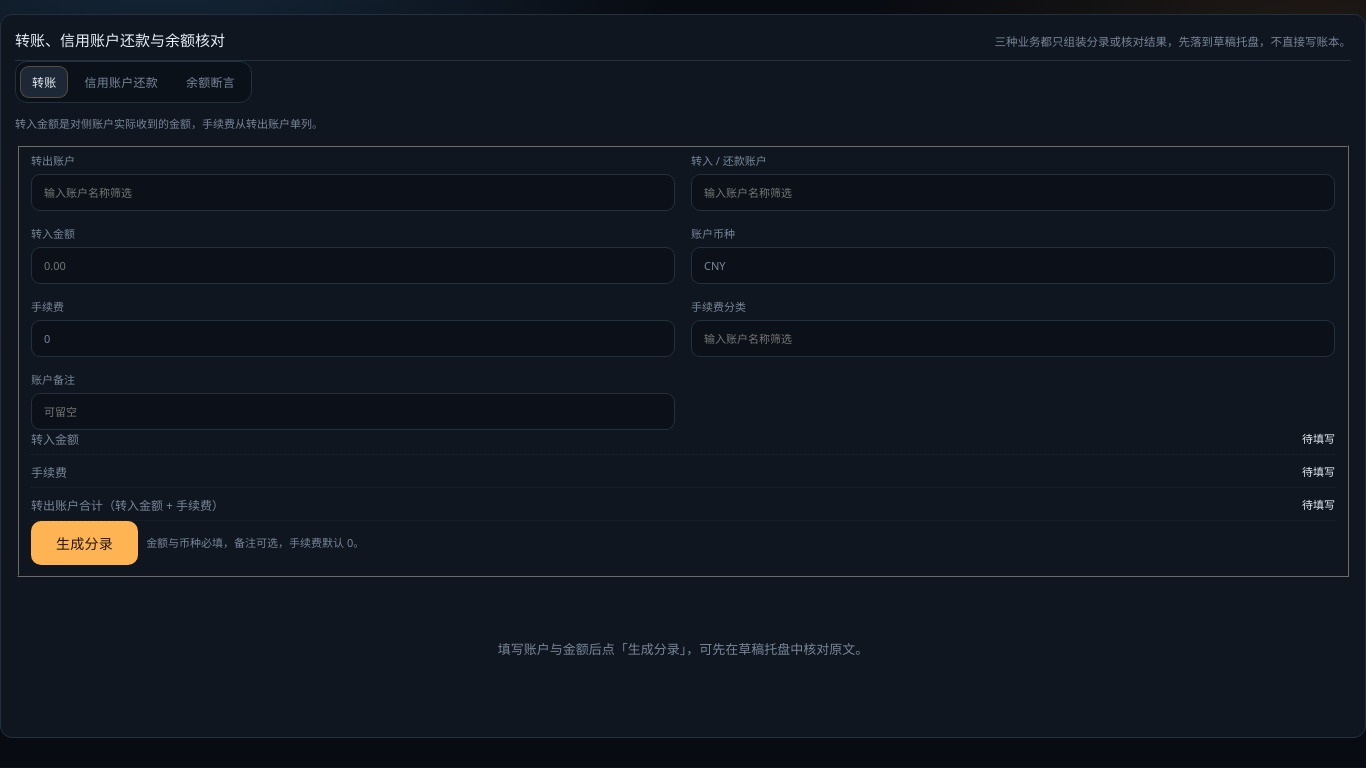
it: 余额断言列出账面、预期与负差额，切换业务后作废
Click the button "余额断言" at (210, 82), box x1=174 y1=66 x2=247 y2=98
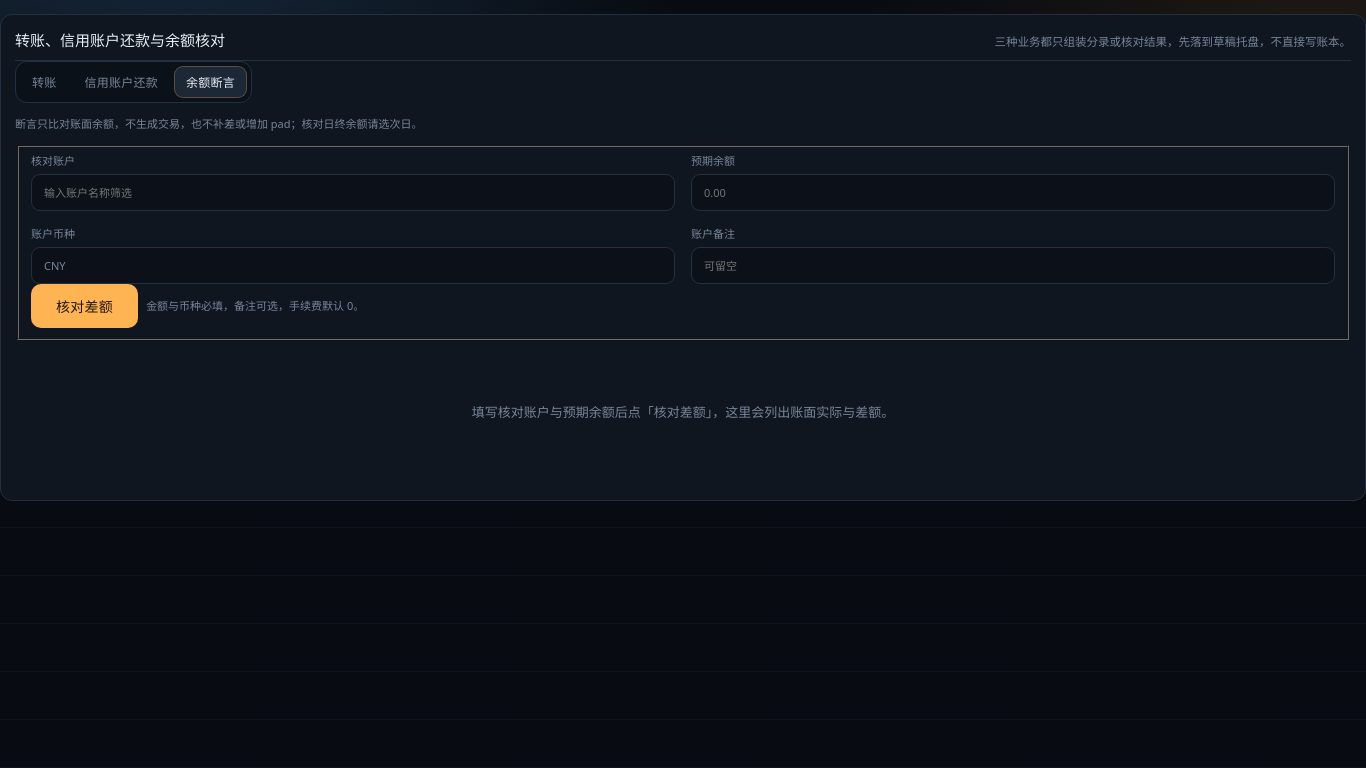
Now the text labelled "转入金额" is gone
Now the text labelled "手续费分类" is gone
Now the text labelled "转出账户" is gone
Type "Assets:Bank" into the dropdown labelled "核对账户" at (353, 193), box x1=31 y1=174 x2=675 y2=211
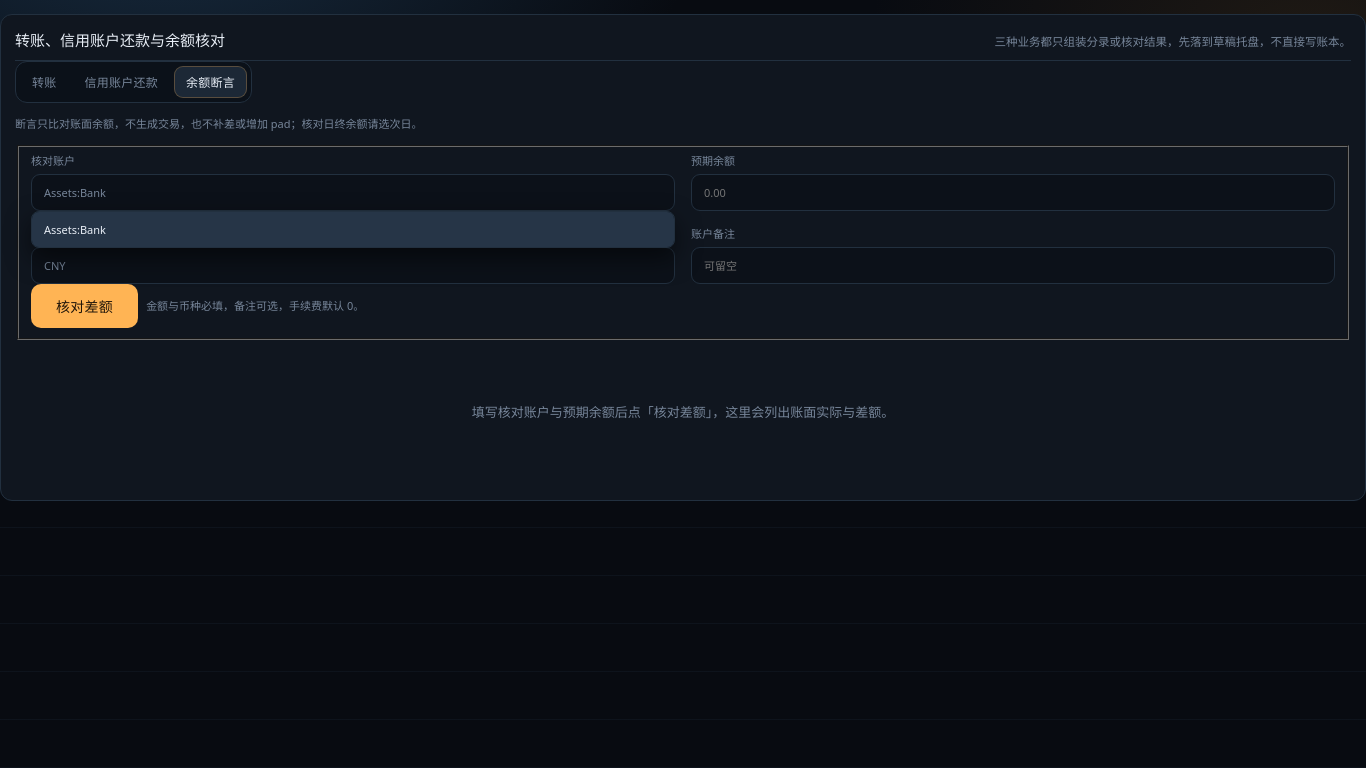
Type "100" into the field labelled "预期余额" at (1013, 193), box x1=691 y1=174 x2=1335 y2=211
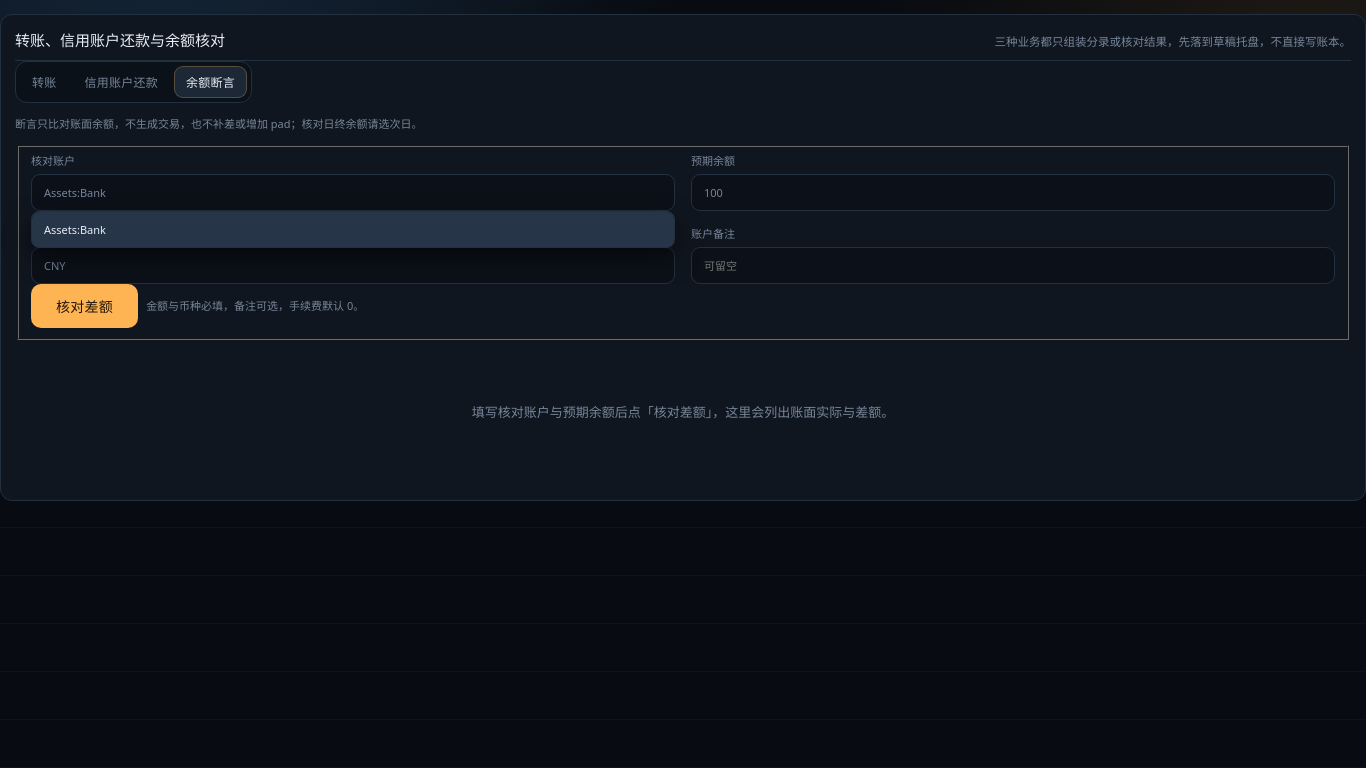
Click the button "核对差额" at (85, 306), box x1=31 y1=284 x2=138 y2=328
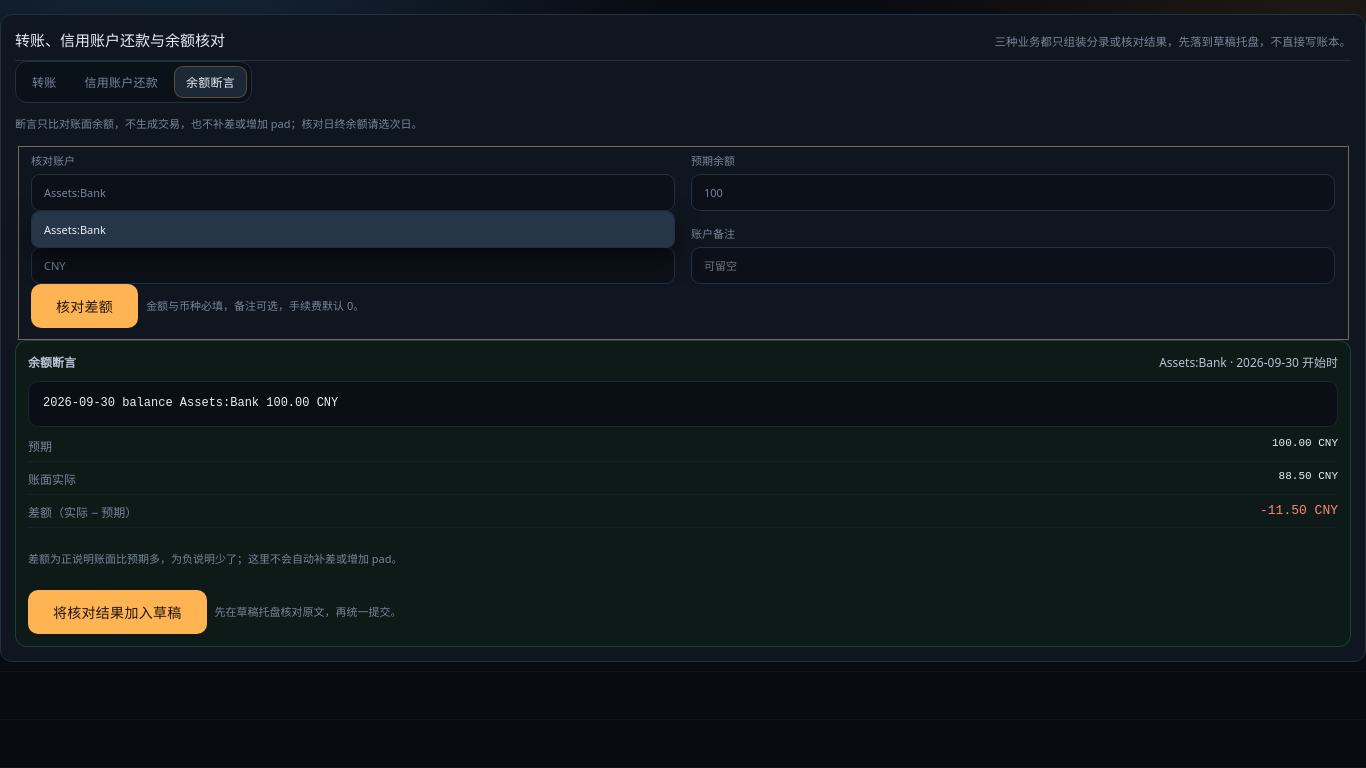
Now the text "88.50 CNY" is shown, box x1=1279 y1=470 x2=1338 y2=488
Now the element with class "result-head" shows "余额断言", box x1=28 y1=354 x2=76 y2=371
Now the element with class "result-head" shows "Assets:Bank · 2026-09-30 开始时", box x1=1159 y1=354 x2=1338 y2=371
Click the button "转账" at (44, 82), box x1=20 y1=66 x2=68 y2=98
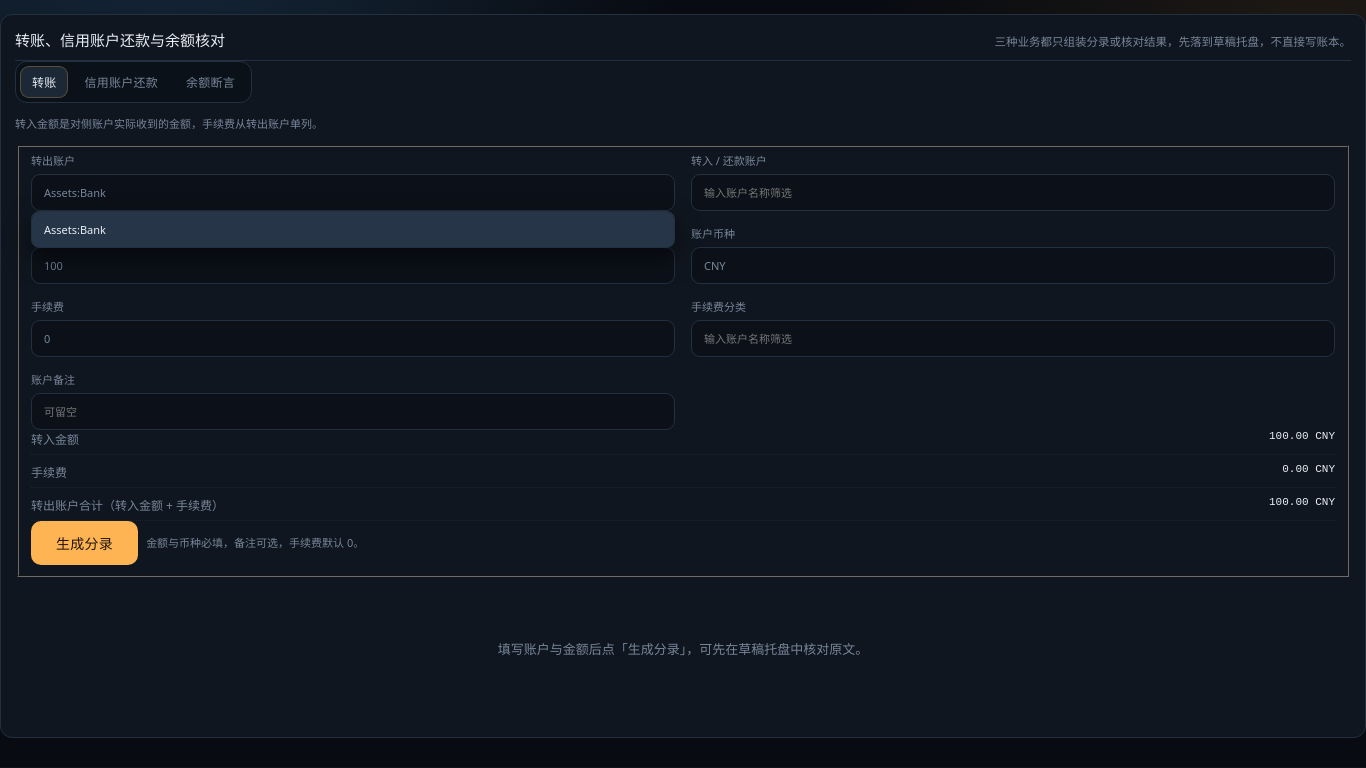
Now the element with class "result-card" is gone
Now the text "填写账户与金额后点「生成分录」，可先在草稿托盘中核对原文。" is shown, box x1=498 y1=640 x2=868 y2=658
